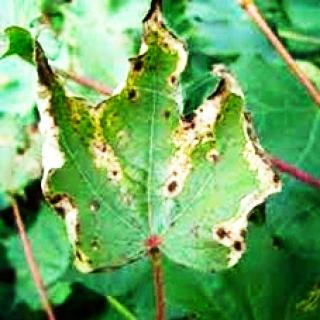leaf spot: (22, 4, 288, 272)
